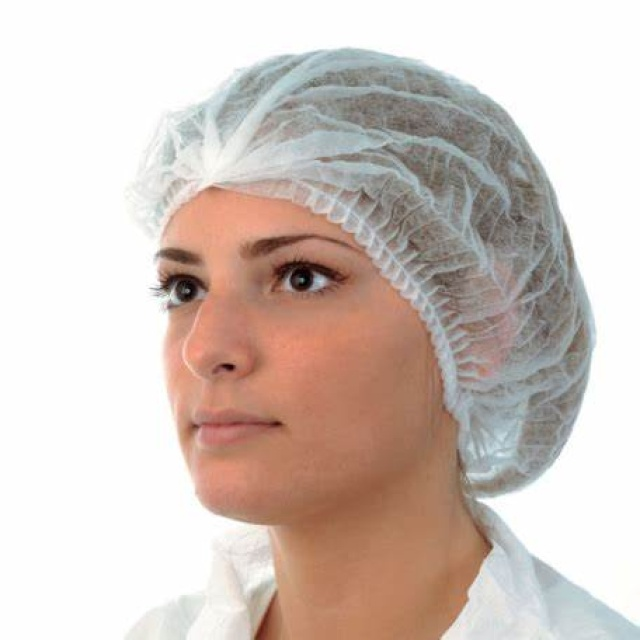Hairnet: (409, 67, 596, 457)
